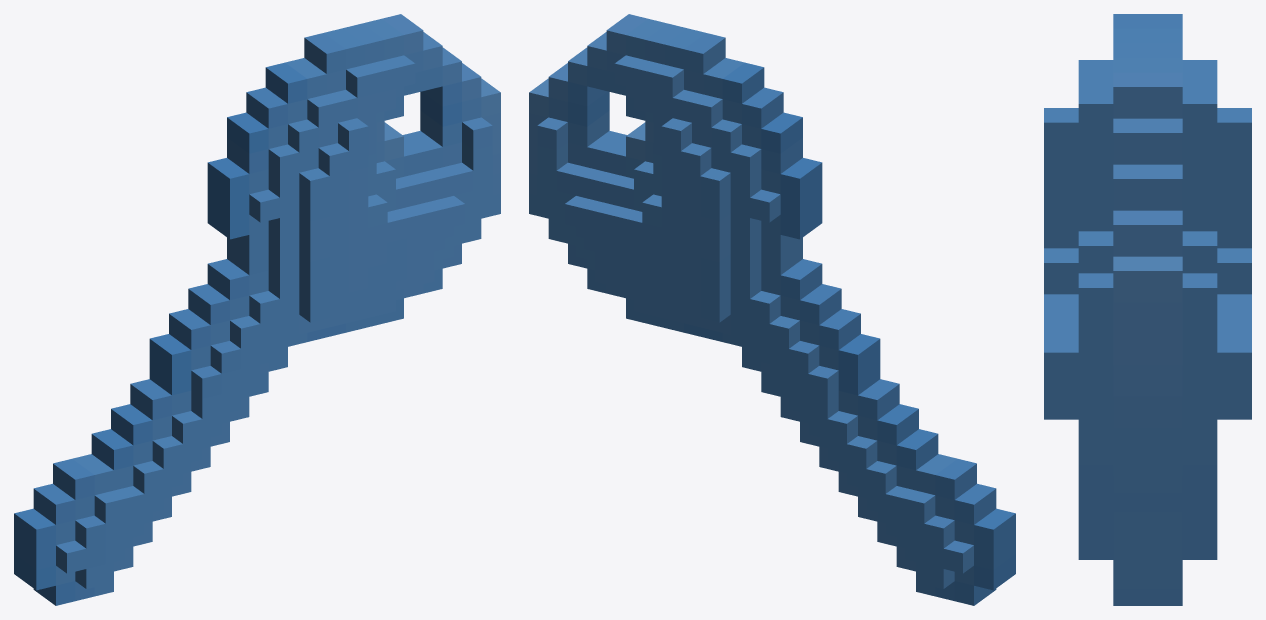
File: key-blue.glb
3 renders of one model, left to right at view 1: azimuth 30°, elevation 25°; view 2: azimuth 150°, elevation 25°; view 3: azimuth 270°, elevation 25°, orthographic. The views are drawn at different scales.
Visible parts, largest first — view 1: prop; view 2: prop; view 3: prop.
Part boxes in pixels (bbox=[...]): prop: bbox=[14, 14, 500, 605]; prop: bbox=[529, 14, 1015, 605]; prop: bbox=[1044, 14, 1251, 605].
Bounding box in the file's own units: 16 × 16 × 4.
